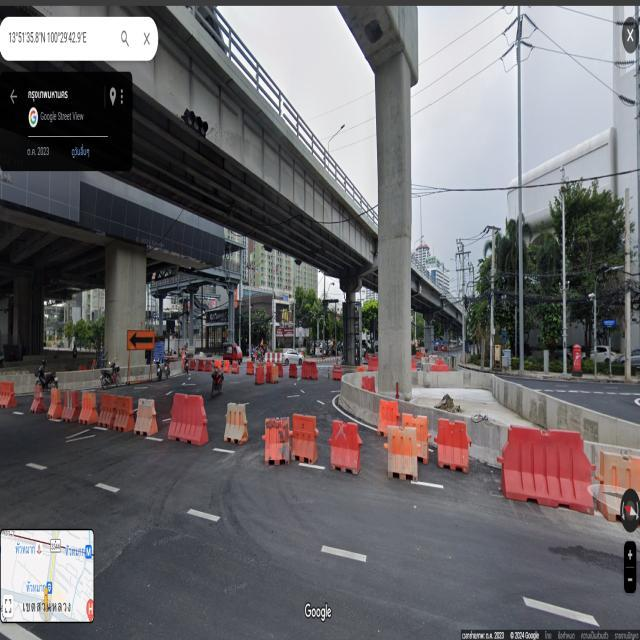fallen_object: (497, 410, 601, 517), (186, 346, 380, 393), (380, 387, 470, 485), (59, 375, 158, 435), (586, 445, 640, 522), (256, 407, 316, 468), (220, 392, 256, 457), (329, 410, 360, 474), (27, 376, 48, 421), (42, 385, 66, 423), (6, 377, 20, 411)
